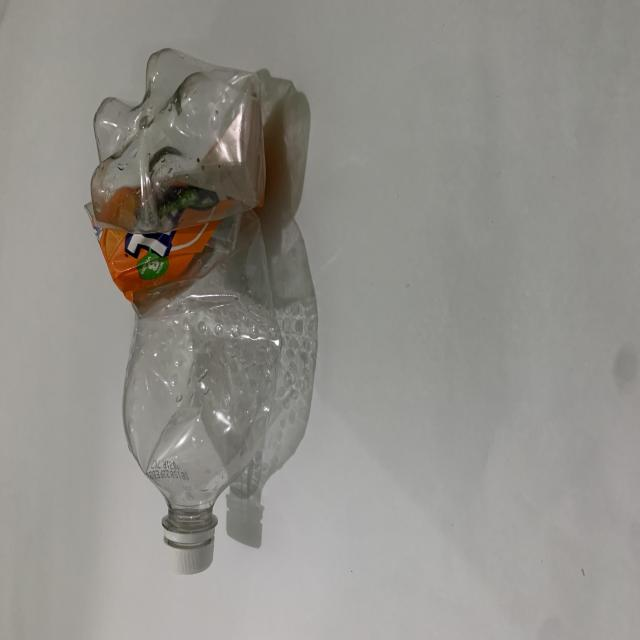bottle: (84, 32, 315, 585)
